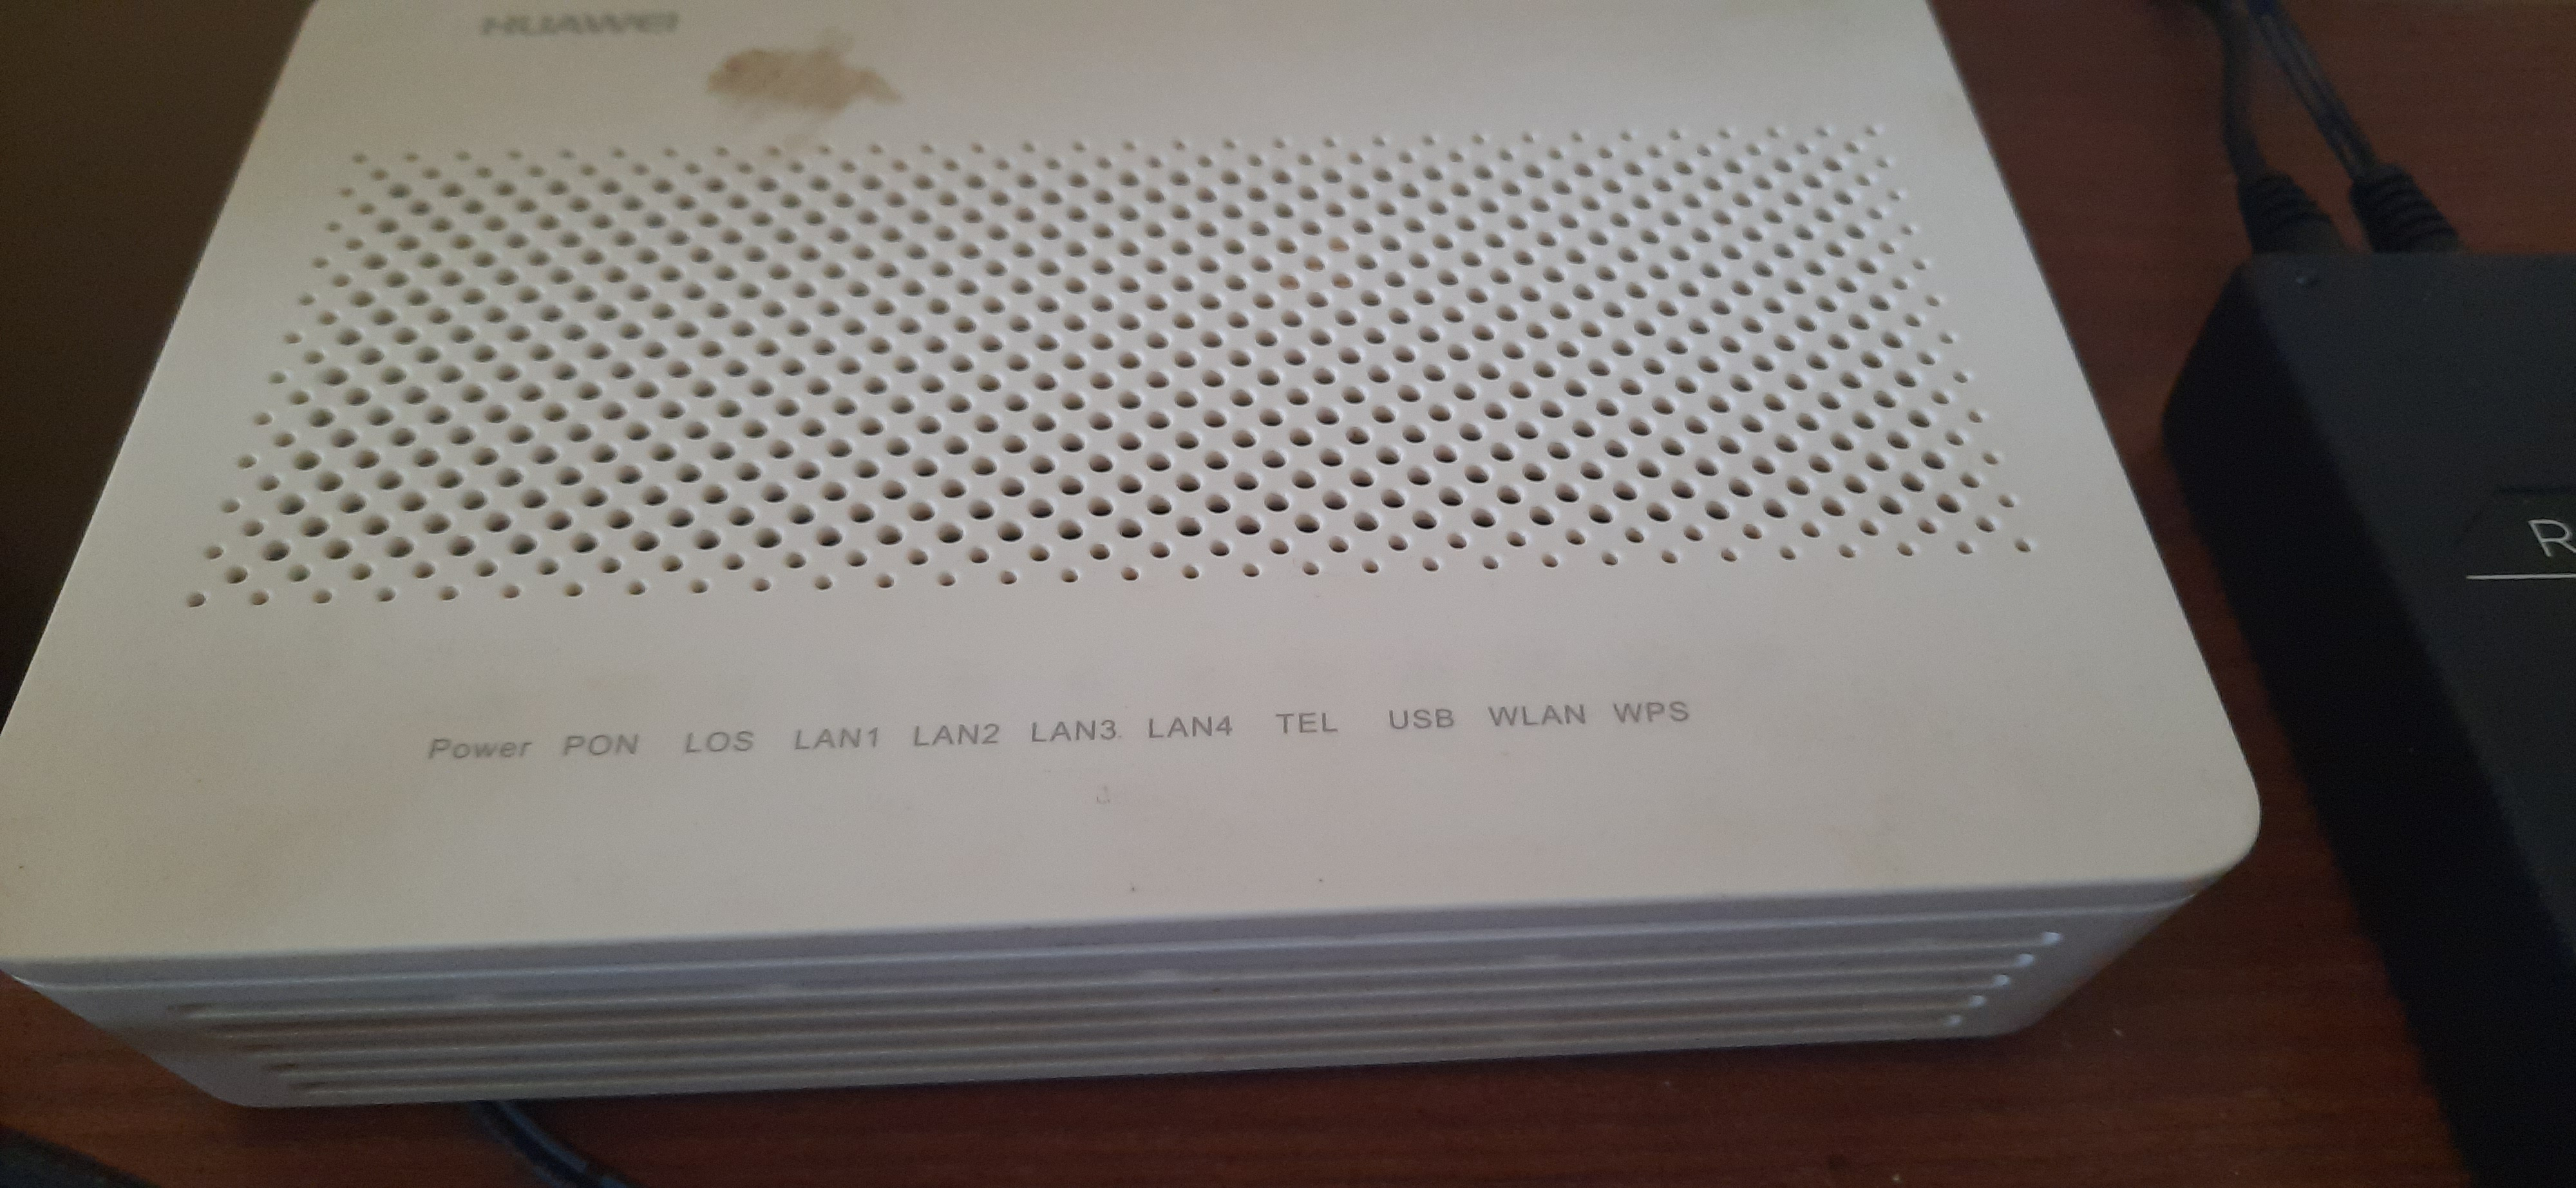WhiteWireIssue: (289, 639, 1815, 859)
